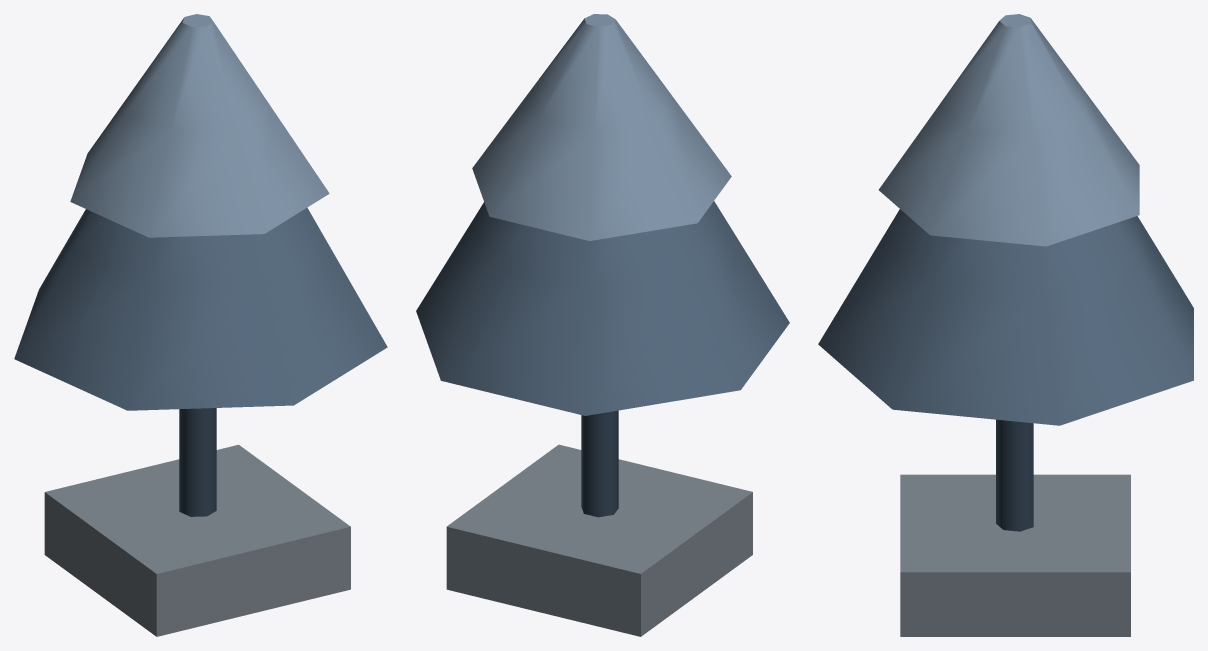
File: arvore_padrao.glb
3 views of the same model, side by side, from view 1: azimuth 30°, elevation 25°; view 2: azimuth 150°, elevation 25°; view 3: azimuth 270°, elevation 25° (orthographic). The views are drawn at different scales.
Parts seen in each view (by area): view 1: Copa, Vaso, _MeshInstance3D_551, Tronco; view 2: Copa, Vaso, _MeshInstance3D_551, Tronco; view 3: Copa, _MeshInstance3D_551, Vaso, Tronco.
Part boxes in pixels (x1,y1,x2,y2): Copa: (14, 207, 387, 410); Vaso: (44, 444, 350, 636); _MeshInstance3D_551: (70, 14, 329, 237); Tronco: (179, 408, 216, 516); Copa: (416, 201, 789, 415); Vaso: (446, 444, 752, 636); _MeshInstance3D_551: (472, 14, 731, 240); Tronco: (581, 410, 618, 517); Copa: (818, 209, 1193, 425); _MeshInstance3D_551: (879, 14, 1139, 246); Vaso: (900, 474, 1130, 636); Tronco: (996, 419, 1033, 531).
Size of the model in its own units: 3.51 by 5.7 by 3.42.
